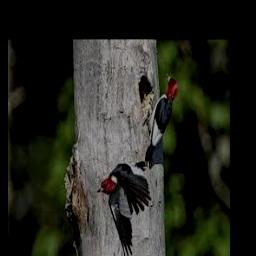Woodpecker: (97, 164, 151, 256), (144, 73, 177, 161)
